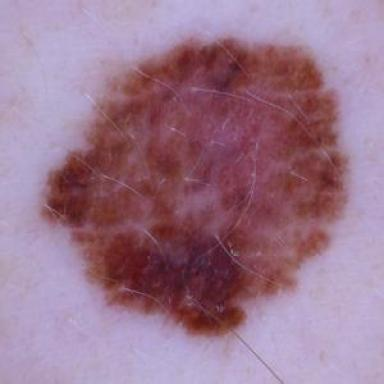Melanoma: (41, 39, 346, 333)
